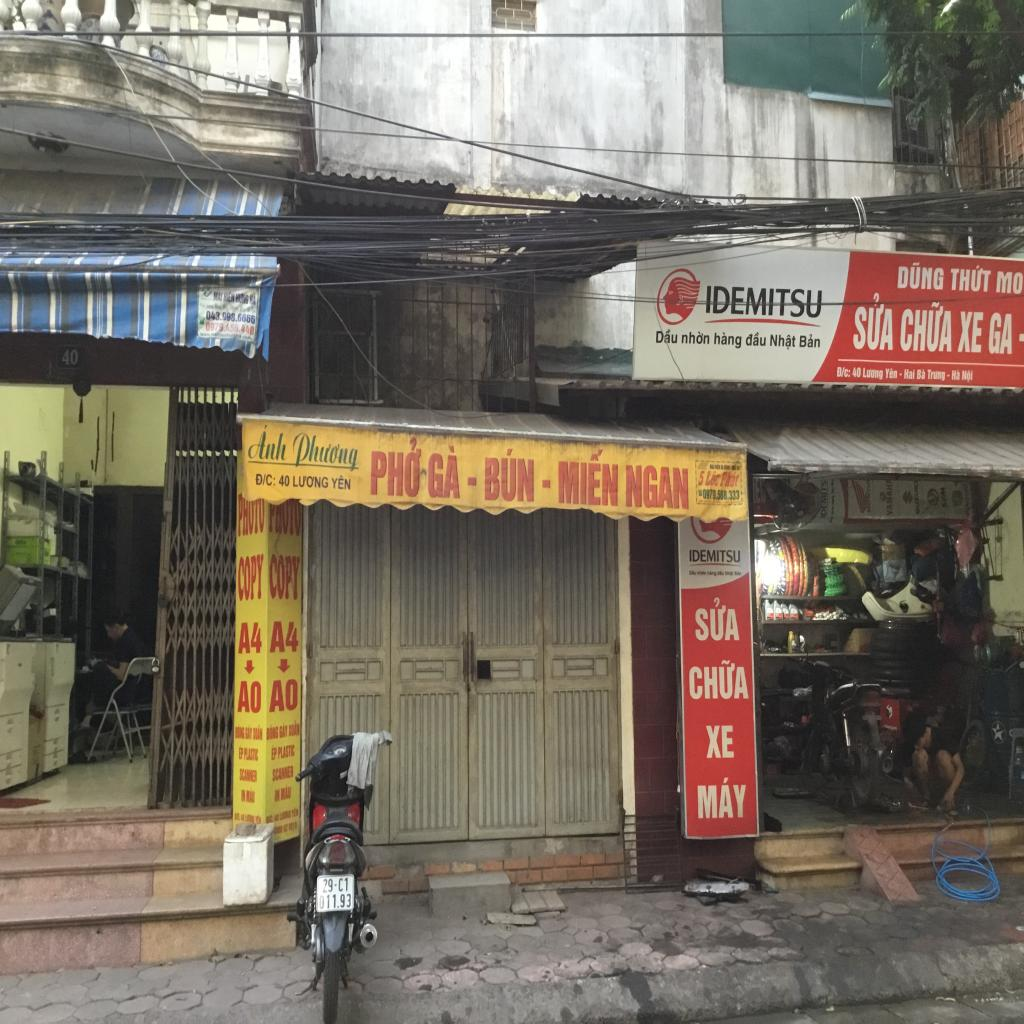text: (705, 285, 823, 319), (558, 446, 618, 507), (370, 434, 422, 498), (626, 463, 690, 511), (289, 431, 362, 472), (898, 298, 952, 353), (851, 290, 895, 352), (484, 448, 534, 502), (688, 659, 749, 700), (696, 776, 748, 820), (695, 597, 740, 642), (427, 442, 461, 500), (246, 424, 291, 462), (896, 260, 946, 292), (268, 553, 301, 600), (948, 263, 993, 294), (238, 553, 265, 602), (956, 310, 985, 354), (988, 311, 1013, 355), (268, 678, 298, 713), (269, 620, 299, 654), (705, 725, 734, 759), (237, 680, 262, 714), (238, 621, 262, 655), (206, 310, 256, 325), (996, 270, 1024, 296), (689, 549, 741, 563), (206, 322, 255, 336), (319, 893, 351, 911), (714, 331, 742, 350), (288, 498, 301, 538), (238, 491, 249, 538), (292, 475, 328, 489), (769, 333, 797, 351), (681, 330, 710, 346), (322, 877, 349, 894), (703, 488, 740, 500), (754, 478, 767, 510), (272, 765, 294, 783), (718, 470, 740, 488), (655, 328, 678, 345), (274, 820, 298, 836), (745, 331, 767, 348), (59, 348, 79, 366), (704, 470, 722, 490), (330, 475, 352, 491), (799, 333, 821, 349), (819, 480, 828, 519), (862, 367, 884, 381), (255, 473, 276, 487), (885, 484, 894, 516), (926, 368, 946, 382), (278, 744, 295, 760), (239, 768, 257, 783), (243, 747, 259, 762), (288, 719, 300, 738), (914, 481, 920, 515), (252, 723, 263, 741), (266, 724, 278, 740), (281, 783, 291, 801), (836, 366, 851, 378), (962, 369, 974, 384), (236, 292, 249, 305), (903, 368, 916, 381), (224, 290, 236, 304), (278, 474, 290, 488), (884, 368, 898, 380), (246, 787, 255, 805), (235, 724, 245, 740), (279, 809, 291, 822), (213, 290, 224, 302), (916, 368, 927, 380), (852, 366, 862, 379), (245, 724, 253, 740), (280, 722, 288, 738), (698, 470, 706, 486), (951, 369, 961, 381), (866, 485, 871, 506), (272, 744, 278, 761), (245, 814, 255, 824), (940, 486, 947, 500), (291, 806, 299, 818), (254, 814, 262, 825), (249, 293, 256, 305), (941, 498, 948, 510), (239, 744, 244, 760), (275, 788, 280, 803), (241, 789, 246, 803), (707, 570, 717, 577), (696, 570, 707, 576), (725, 570, 734, 577), (210, 333, 222, 338), (688, 569, 696, 576), (200, 332, 210, 337), (274, 813, 279, 823), (734, 570, 742, 576), (242, 336, 252, 340), (240, 813, 244, 822), (270, 814, 274, 823), (718, 570, 724, 576)
